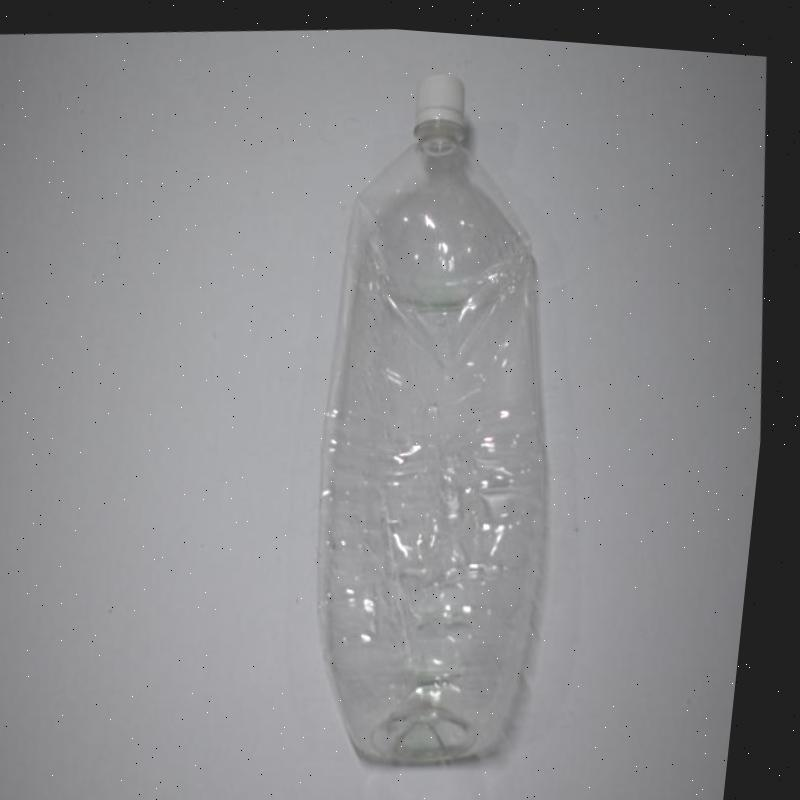botella: (270, 45, 613, 778)
